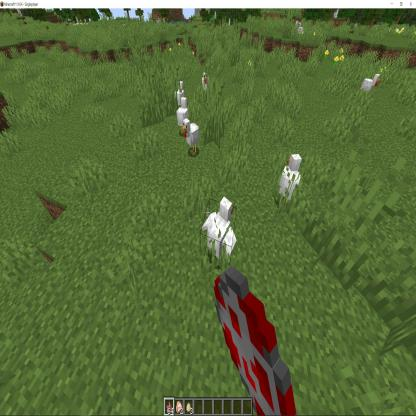minecraft-pigs: (203, 194, 239, 266), (280, 150, 303, 209), (181, 119, 201, 156), (361, 72, 380, 96), (176, 97, 189, 126), (174, 80, 184, 105), (200, 72, 210, 94), (296, 19, 304, 41)
